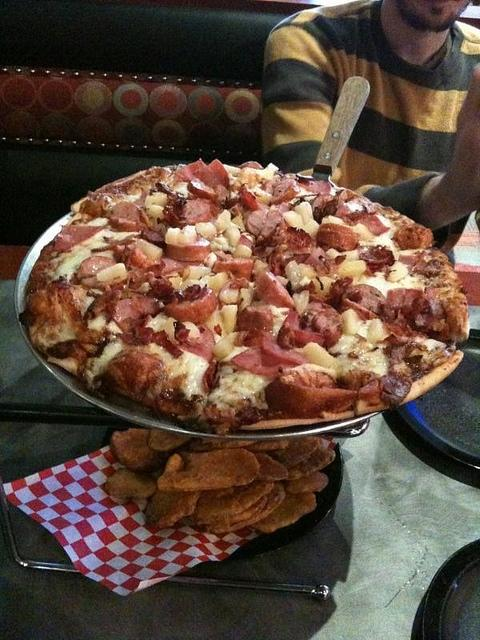pineapple: (301, 342, 334, 368), (206, 310, 228, 343), (133, 238, 163, 260), (96, 263, 128, 282), (211, 334, 235, 358), (386, 260, 409, 284), (255, 163, 280, 185), (220, 305, 237, 335), (282, 210, 304, 233), (213, 210, 231, 238), (341, 308, 359, 336), (312, 276, 336, 296), (182, 266, 212, 282), (294, 202, 313, 226), (366, 319, 384, 343), (176, 225, 198, 244), (352, 224, 375, 242), (341, 260, 366, 276), (144, 192, 168, 208), (195, 222, 217, 238), (208, 272, 227, 290), (223, 227, 240, 247), (299, 263, 317, 281), (218, 288, 238, 304), (231, 212, 246, 232), (146, 204, 164, 220), (304, 220, 320, 238), (232, 244, 252, 258), (340, 250, 360, 262), (166, 227, 180, 244), (169, 276, 181, 290), (257, 194, 272, 205), (328, 215, 344, 225), (326, 248, 342, 258)
